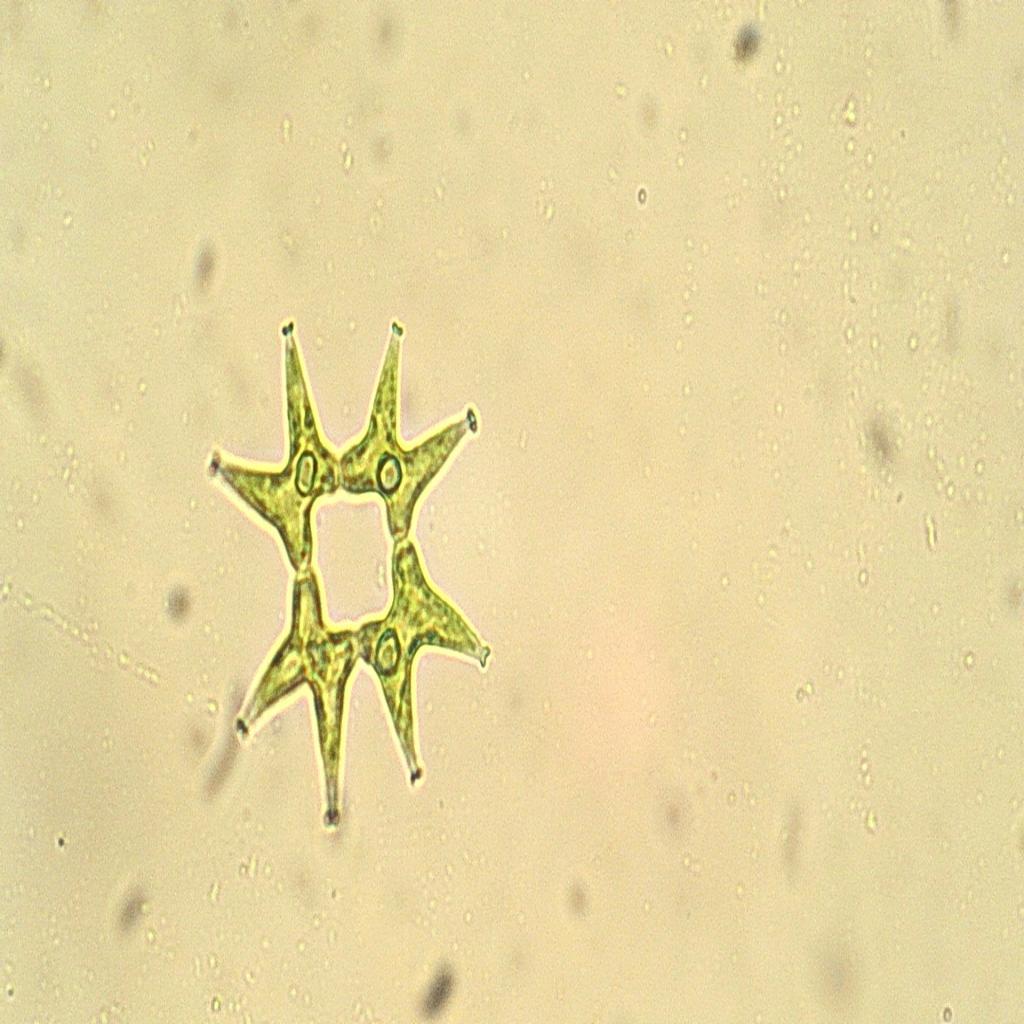Pediastrum_75O: (175, 286, 518, 844)
